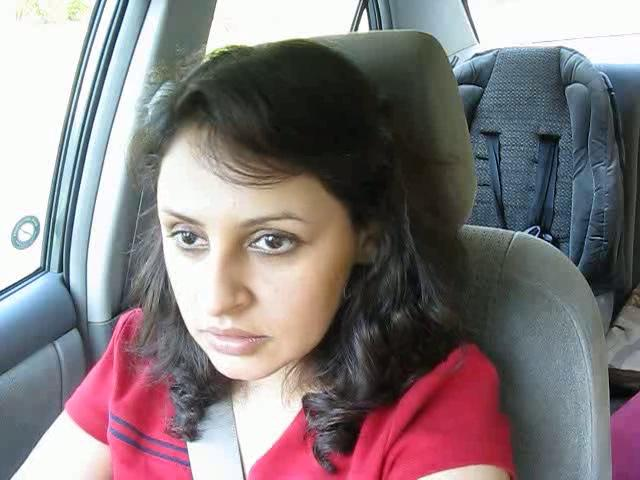no_yawn: (183, 320, 278, 360)
open_eyeL: (158, 218, 218, 259)
open_eyeR: (236, 217, 313, 265)
